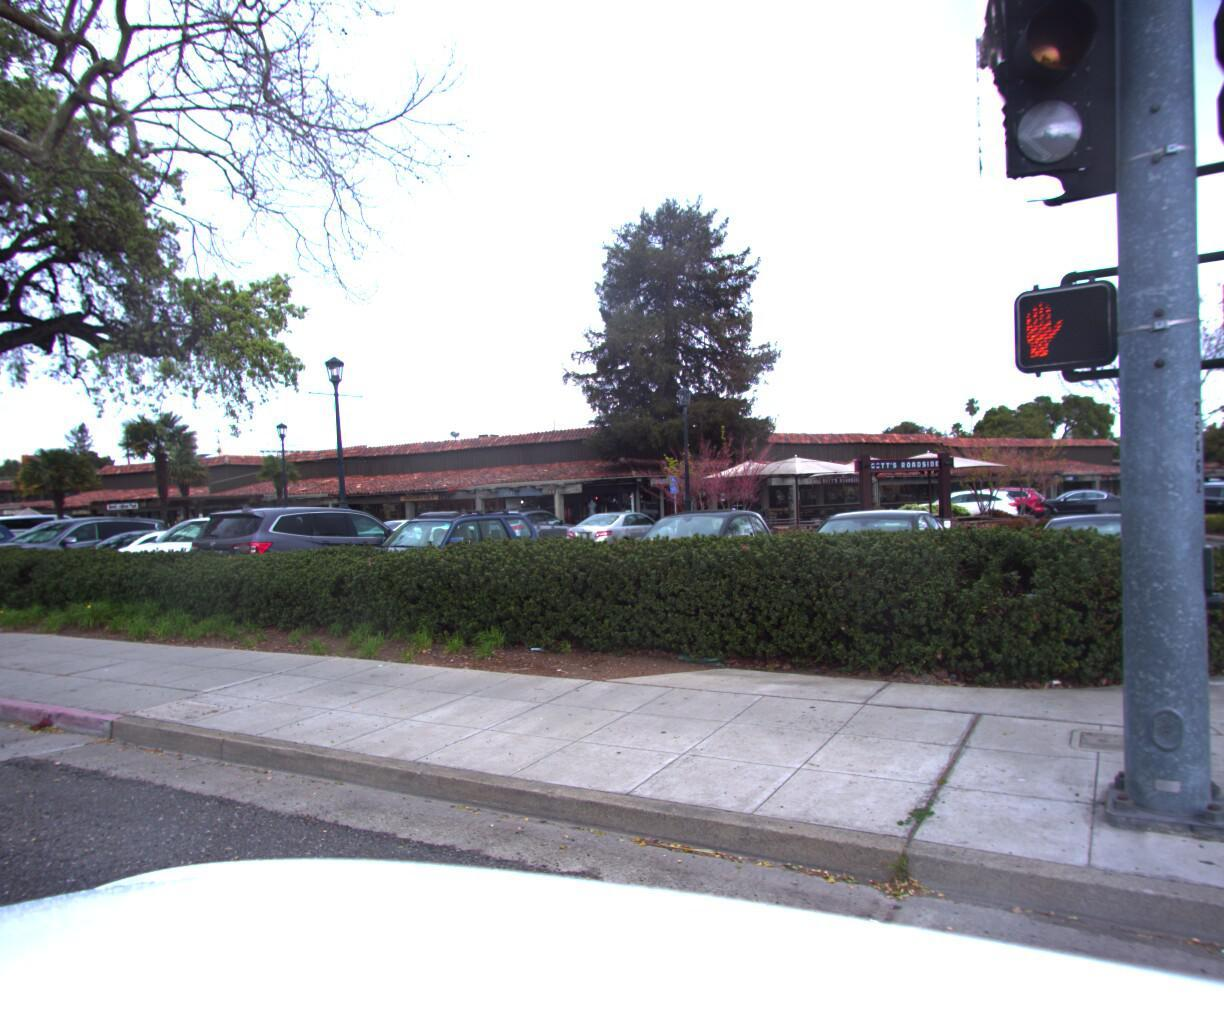car: (1015, 503, 1224, 664), (169, 498, 441, 621), (754, 501, 962, 649), (595, 506, 799, 635), (323, 503, 563, 611), (91, 504, 334, 610), (39, 522, 274, 606), (0, 510, 194, 604), (0, 516, 36, 600)
